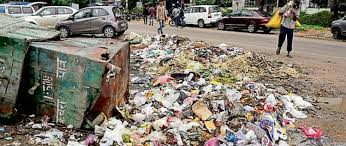garbage: (160, 52, 275, 146), (129, 37, 217, 146), (193, 96, 312, 146)
